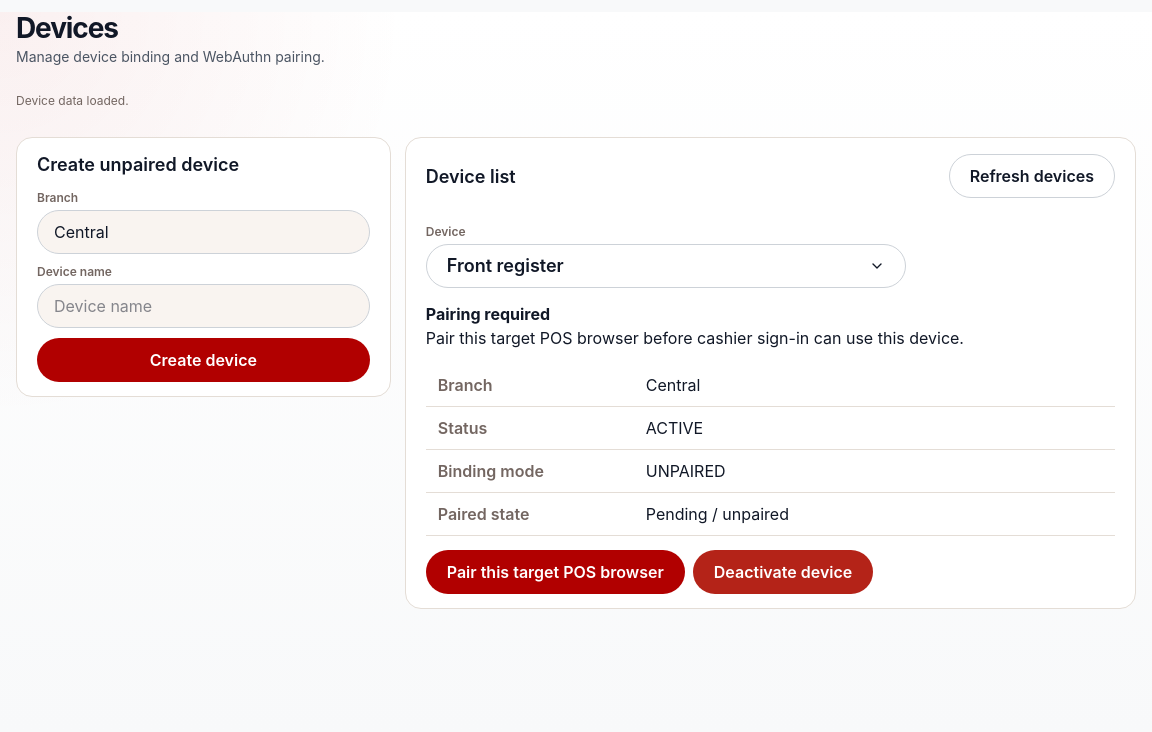
it: DeviceManagement › opens a button-matched device menu and supports keyboard selection
Click the button with aria-label "Device: Front register": [505, 266] box [426,244,906,288]
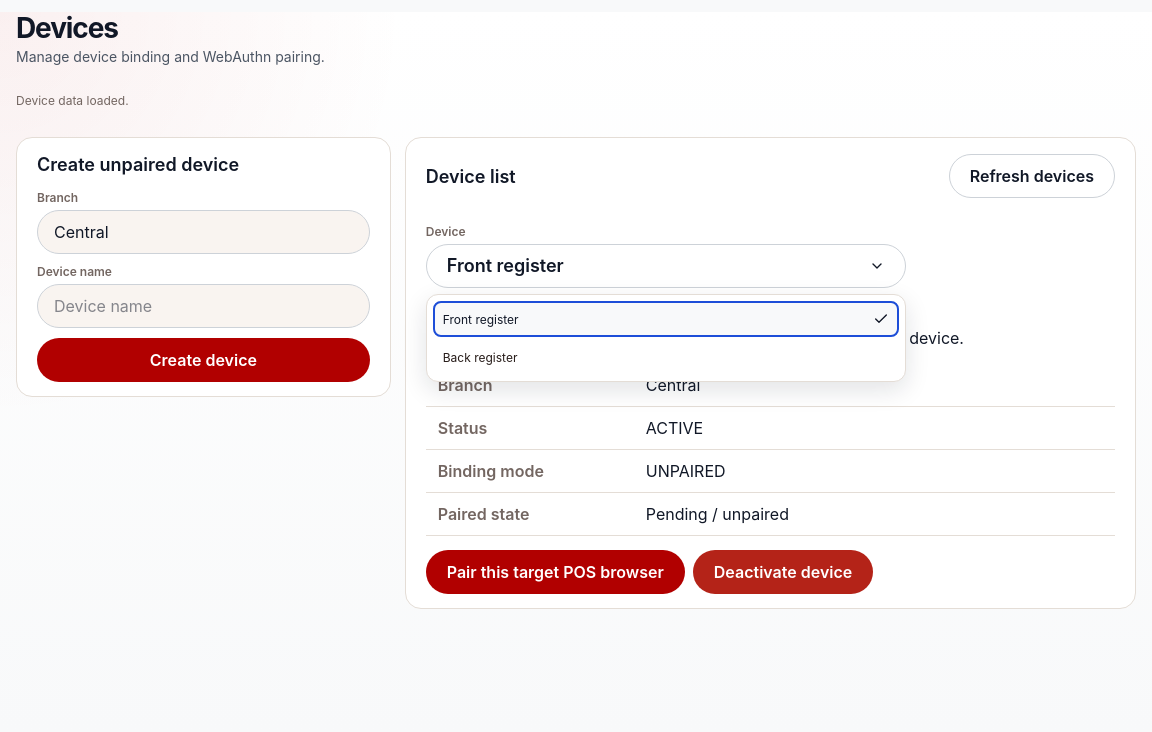
Now the list named "Device options" is shown, box [426,294,906,382]
Press ArrowDown in the option "Front register", box [433,301,899,337]
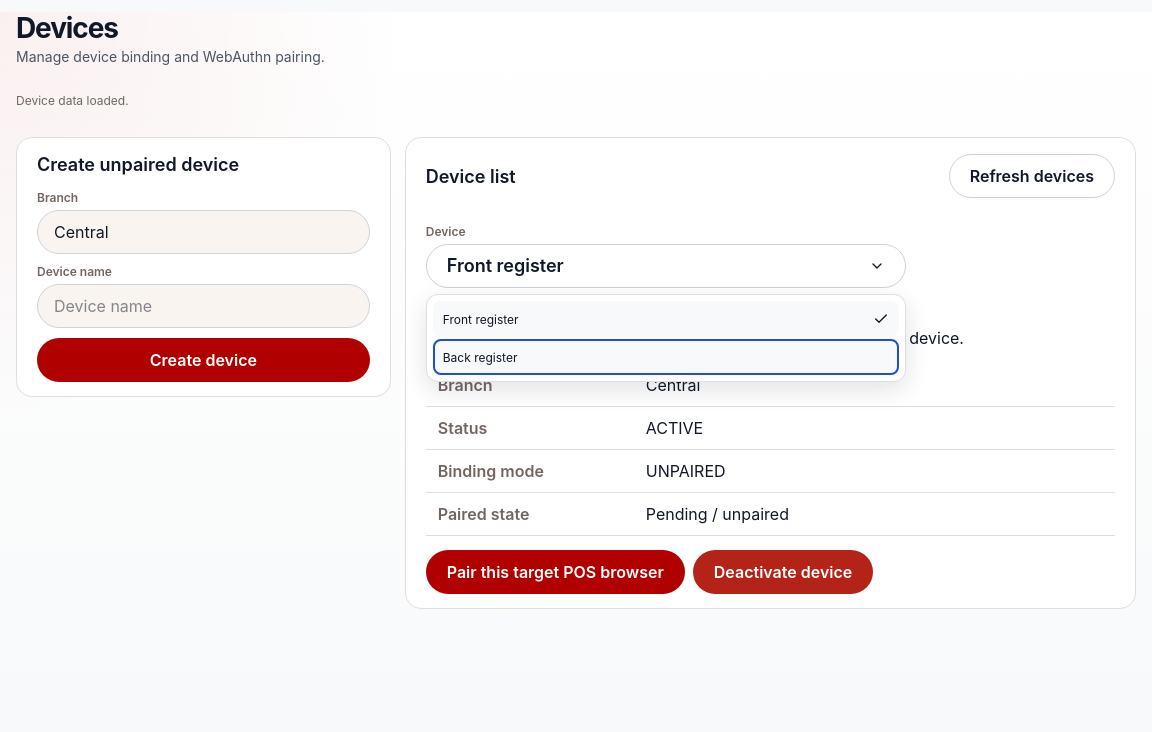
Click the option "Back register": [480, 357] box [433,339,899,375]
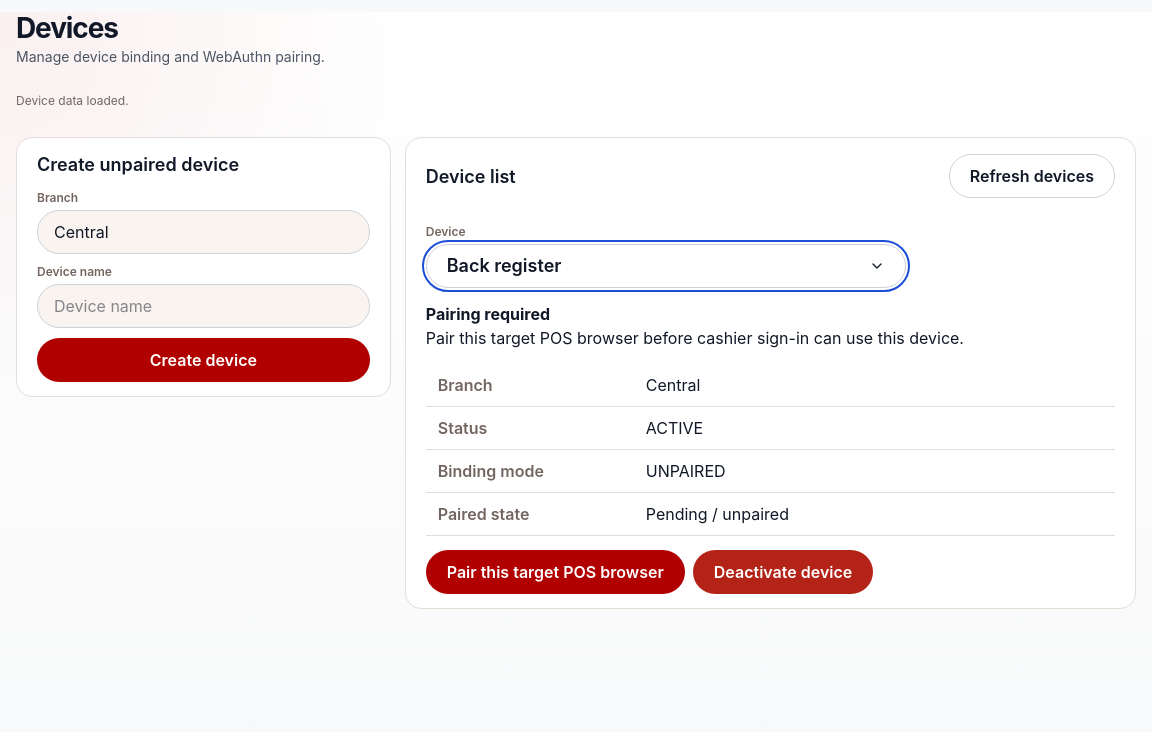
Now the button with aria-label "Device: Back register" is shown, box [426,244,906,288]
Now the list is gone
